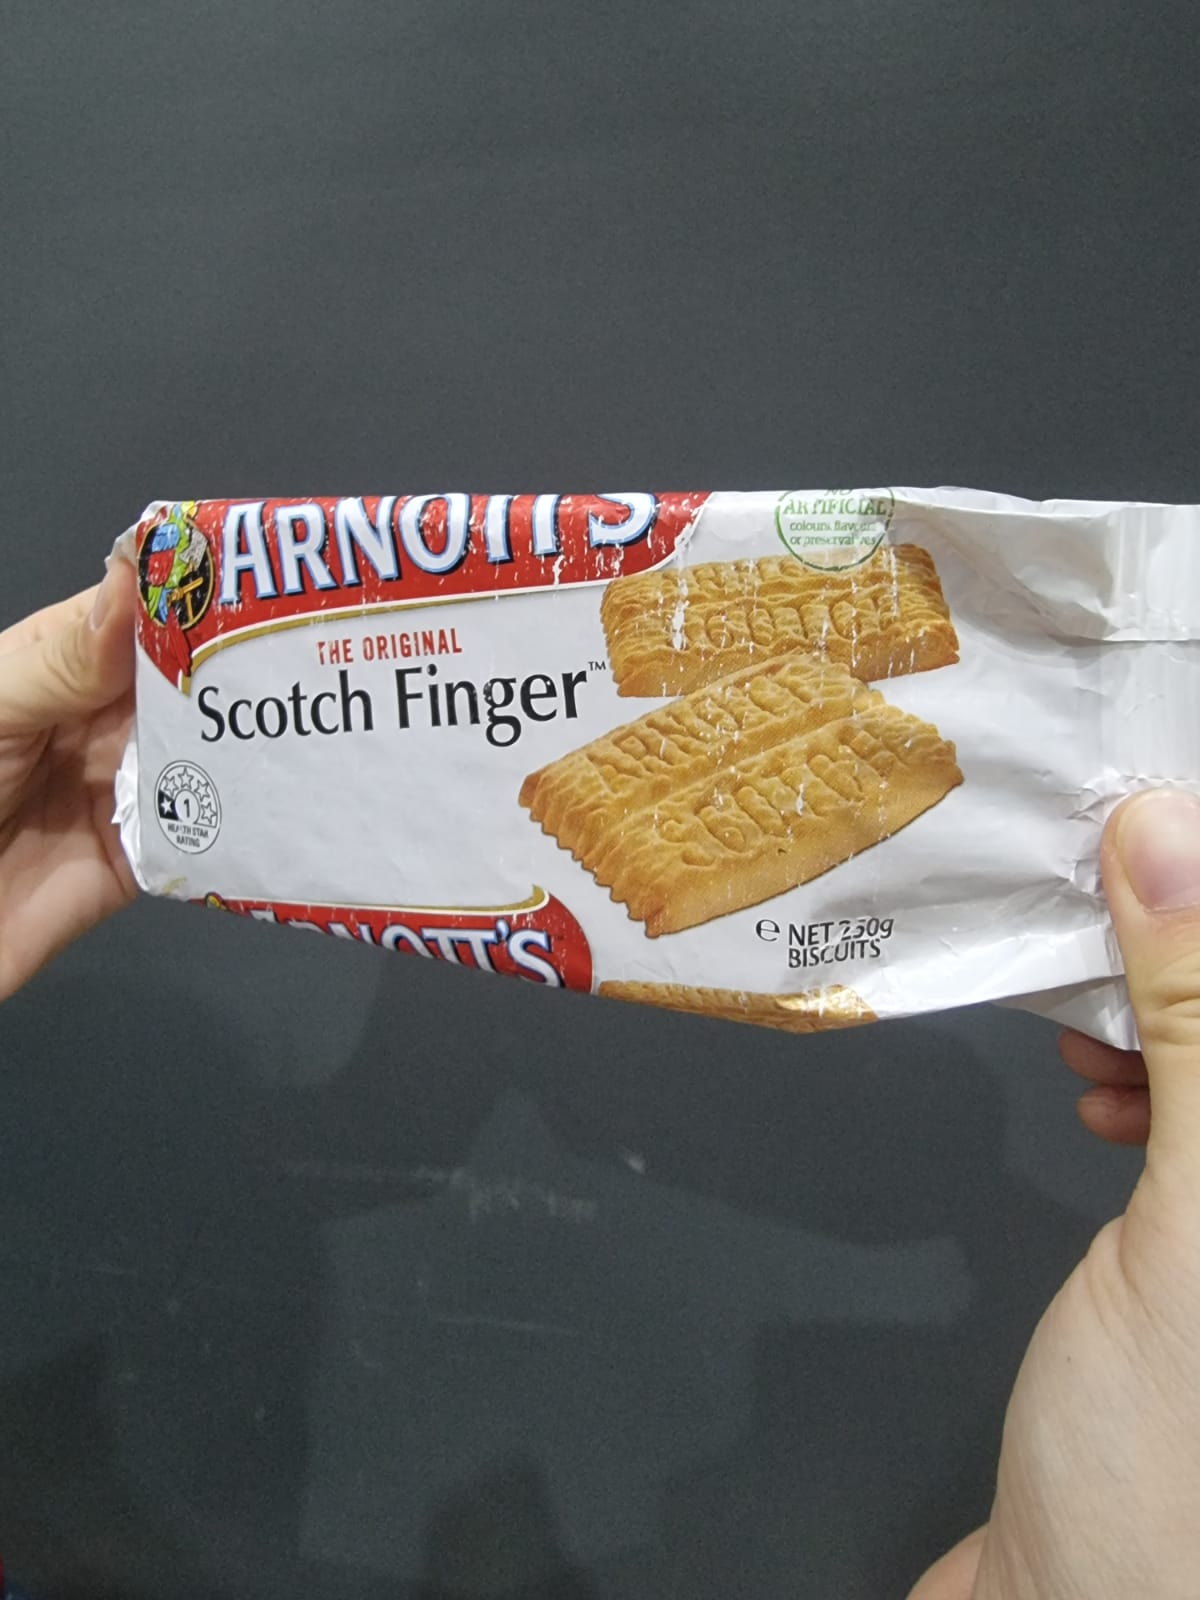Biscuits: (129, 490, 1073, 995)
